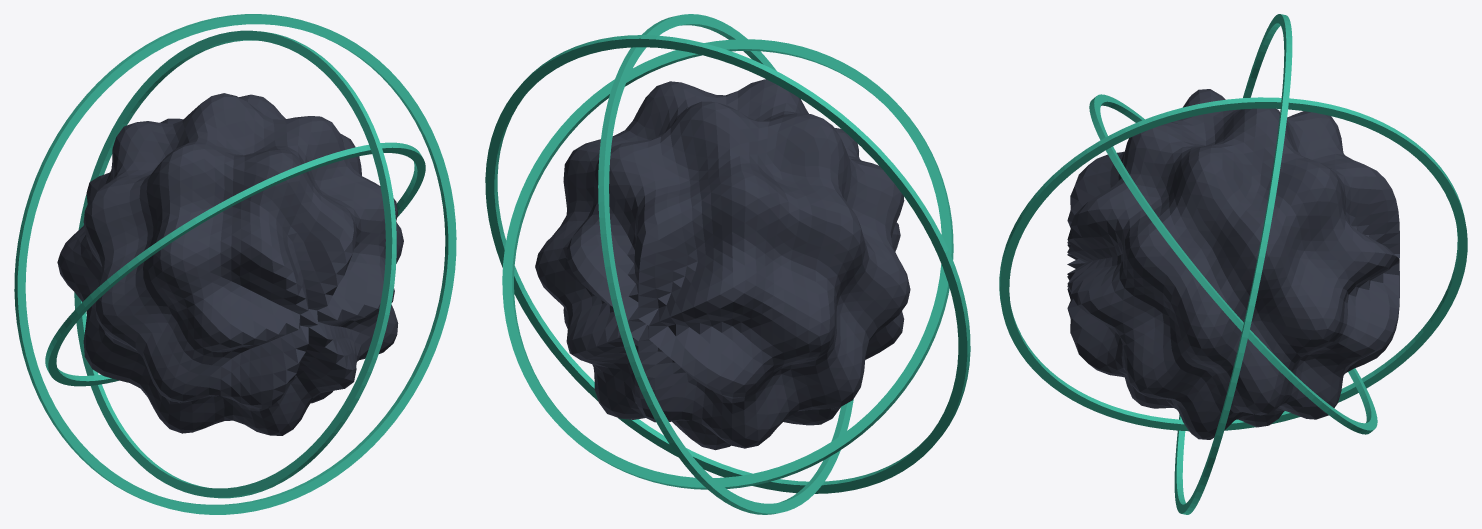
The model's file is gpu-artifact.glb.
The picture shows the model from 3 angles, left to right: view 1: azimuth 30°, elevation 25°; view 2: azimuth 150°, elevation 25°; view 3: azimuth 270°, elevation 25°; orthographic projection. The views are drawn at different scales.
Visible parts, largest first — view 1: agent-budget-sentinel_obsidian_core, agent-budget-sentinel_orbital_ring_2, agent-budget-sentinel_orbital_ring_1, agent-budget-sentinel_orbital_ring_0; view 2: agent-budget-sentinel_obsidian_core, agent-budget-sentinel_orbital_ring_2, agent-budget-sentinel_orbital_ring_0, agent-budget-sentinel_orbital_ring_1; view 3: agent-budget-sentinel_obsidian_core, agent-budget-sentinel_orbital_ring_1, agent-budget-sentinel_orbital_ring_2, agent-budget-sentinel_orbital_ring_0.
Part boxes in pixels (left/top/right/bottom): agent-budget-sentinel_obsidian_core: left=57, top=93, right=403, bottom=435; agent-budget-sentinel_orbital_ring_2: left=14, top=14, right=456, bottom=514; agent-budget-sentinel_orbital_ring_1: left=74, top=30, right=396, bottom=498; agent-budget-sentinel_orbital_ring_0: left=45, top=142, right=425, bottom=386; agent-budget-sentinel_obsidian_core: left=535, top=79, right=910, bottom=450; agent-budget-sentinel_orbital_ring_2: left=485, top=35, right=970, bottom=493; agent-budget-sentinel_orbital_ring_0: left=502, top=39, right=953, bottom=489; agent-budget-sentinel_orbital_ring_1: left=598, top=14, right=853, bottom=514; agent-budget-sentinel_obsidian_core: left=1067, top=89, right=1399, bottom=439; agent-budget-sentinel_orbital_ring_1: left=999, top=97, right=1467, bottom=431; agent-budget-sentinel_orbital_ring_2: left=1174, top=14, right=1292, bottom=514; agent-budget-sentinel_orbital_ring_0: left=1089, top=94, right=1377, bottom=434.
Bounding box in the file's own units: 3.24 × 3.17 × 2.98.
